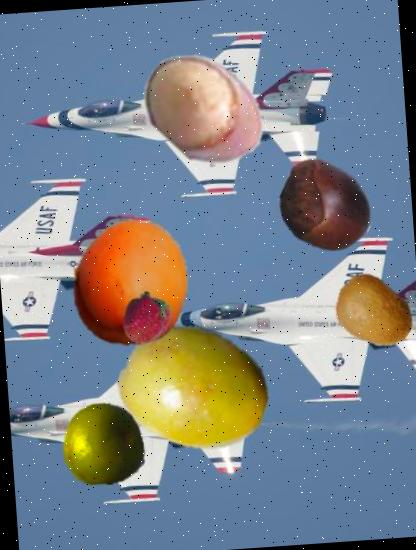Apricot: (61, 213, 199, 351)
Chestnut: (276, 156, 378, 258)
Hazelnut: (133, 38, 275, 180)
Kiwi: (330, 269, 416, 355)
Maracuja: (114, 308, 274, 468)
Pomelo: (58, 397, 150, 488)
Strawberry: (119, 290, 175, 346)
